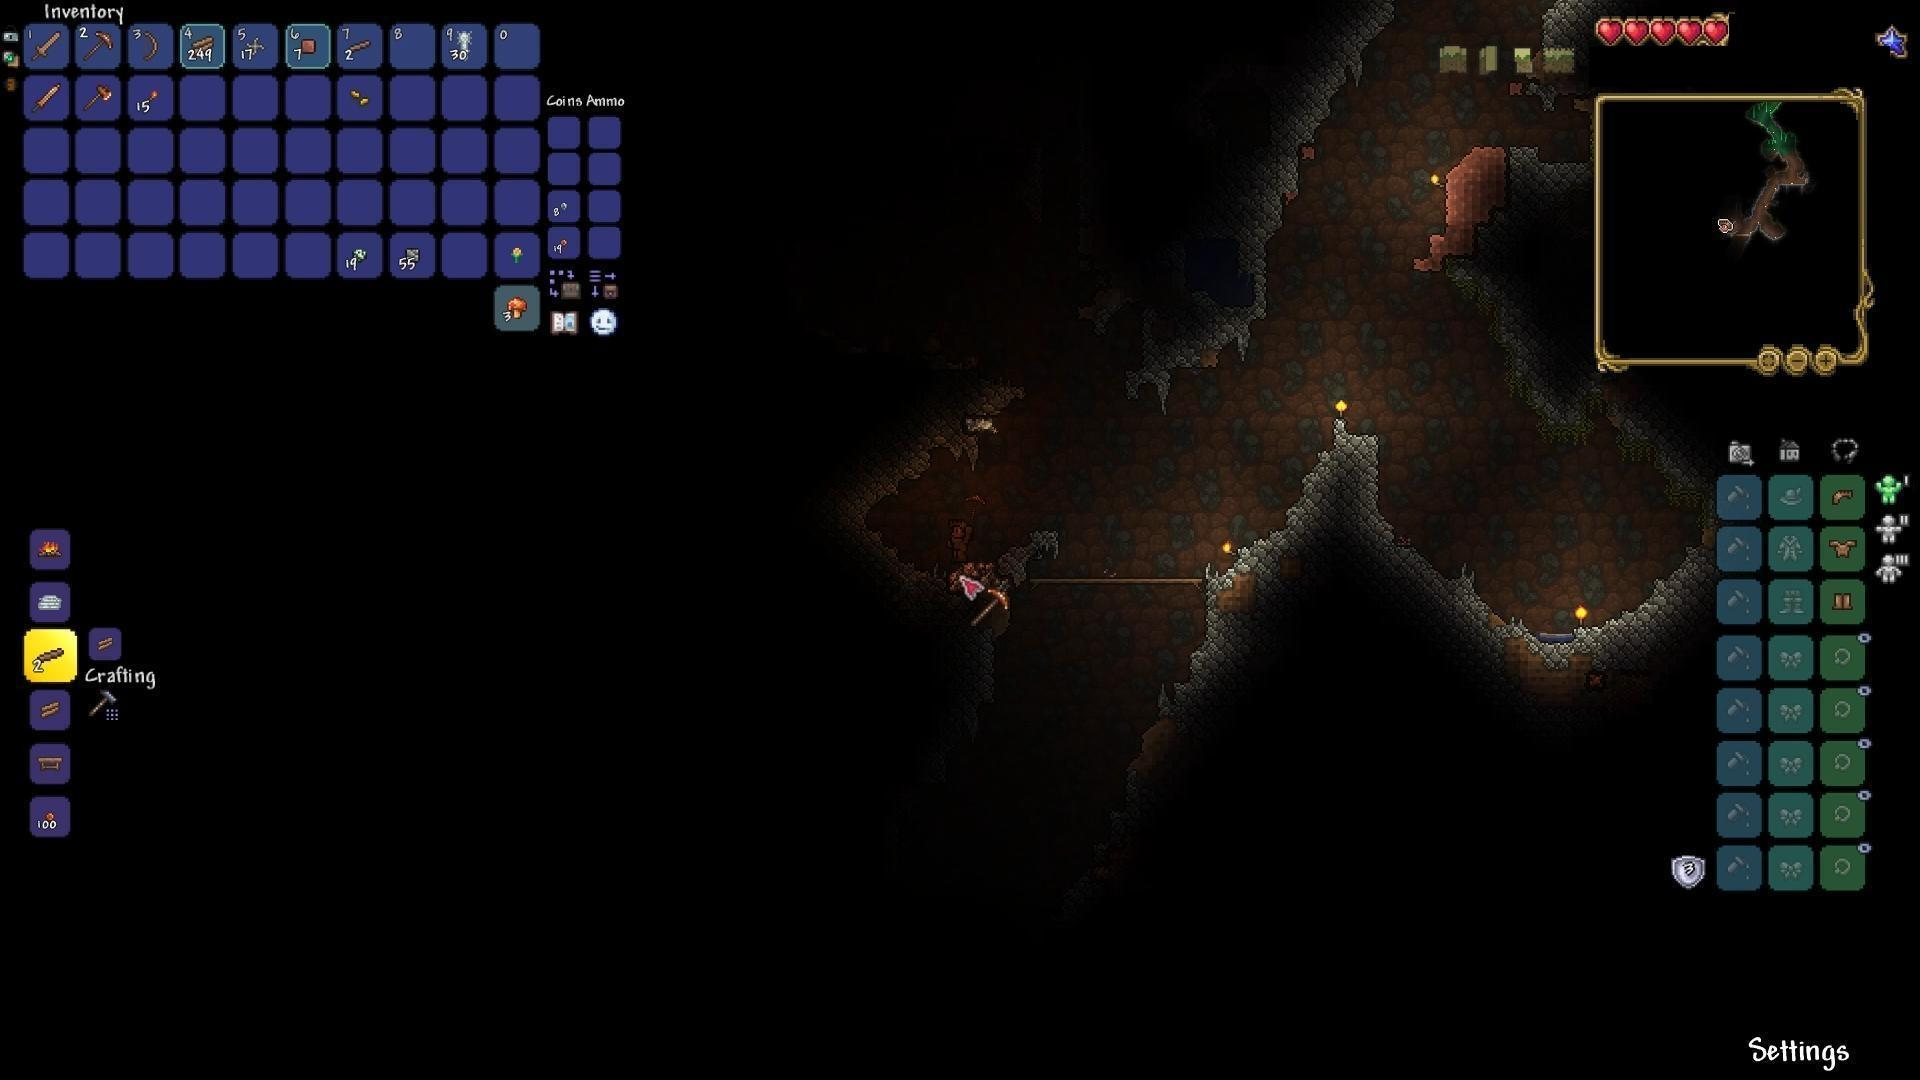heart: (1702, 17, 1733, 51), (1593, 16, 1626, 46), (1676, 15, 1704, 50), (1650, 16, 1676, 49), (1625, 15, 1651, 44)
stone: (1553, 549, 1706, 682), (1276, 423, 1402, 580), (1135, 294, 1273, 398), (1276, 11, 1402, 123), (1410, 555, 1505, 702), (1215, 144, 1317, 261), (1168, 620, 1270, 725), (1502, 127, 1590, 223), (845, 442, 953, 518), (1207, 531, 1279, 621), (1635, 442, 1720, 513), (1513, 365, 1596, 436), (959, 378, 1054, 430), (1001, 518, 1056, 583), (1545, 0, 1590, 42)
